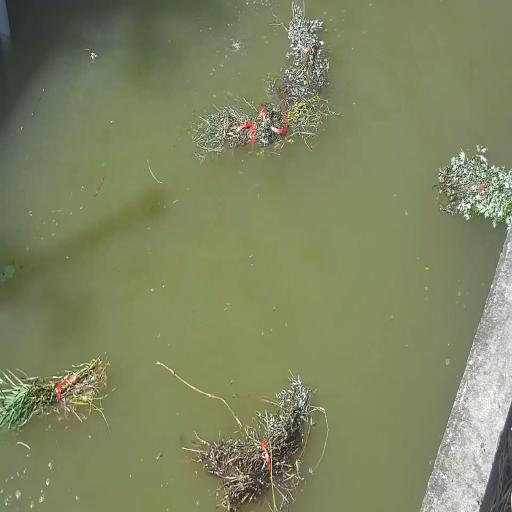twig: (170, 365, 325, 511), (186, 92, 330, 161), (0, 352, 113, 434), (435, 146, 512, 227), (276, 0, 331, 103)
